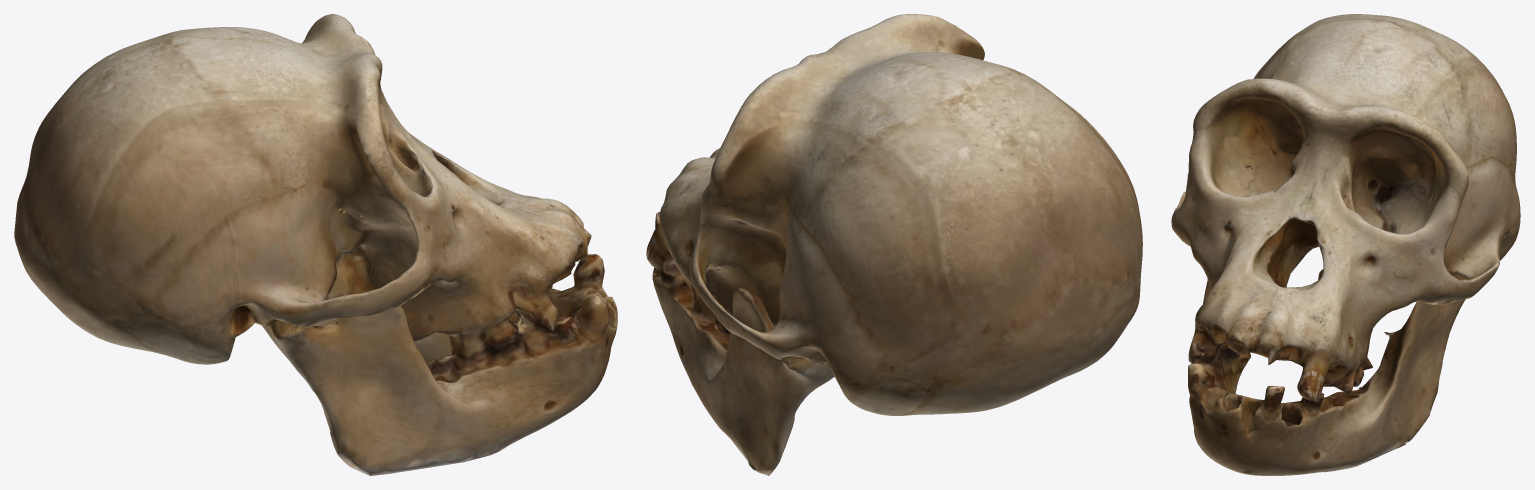
The picture shows the model from 3 angles, left to right: view 1: azimuth 30°, elevation 25°; view 2: azimuth 150°, elevation 25°; view 3: azimuth 270°, elevation 25°; orthographic projection. The views are drawn at different scales.
Parts seen in each view (by area): view 1: chimp_vieux_1; view 2: chimp_vieux_1; view 3: chimp_vieux_1.
Boxes of the visible parts, x1,y1,x2,y2 form: chimp_vieux_1: [14, 14, 617, 475]; chimp_vieux_1: [646, 14, 1142, 475]; chimp_vieux_1: [1171, 14, 1520, 475].
Size of the model in its own units: 6.3 by 4.84 by 4.39.
1 material, 1 textured.
